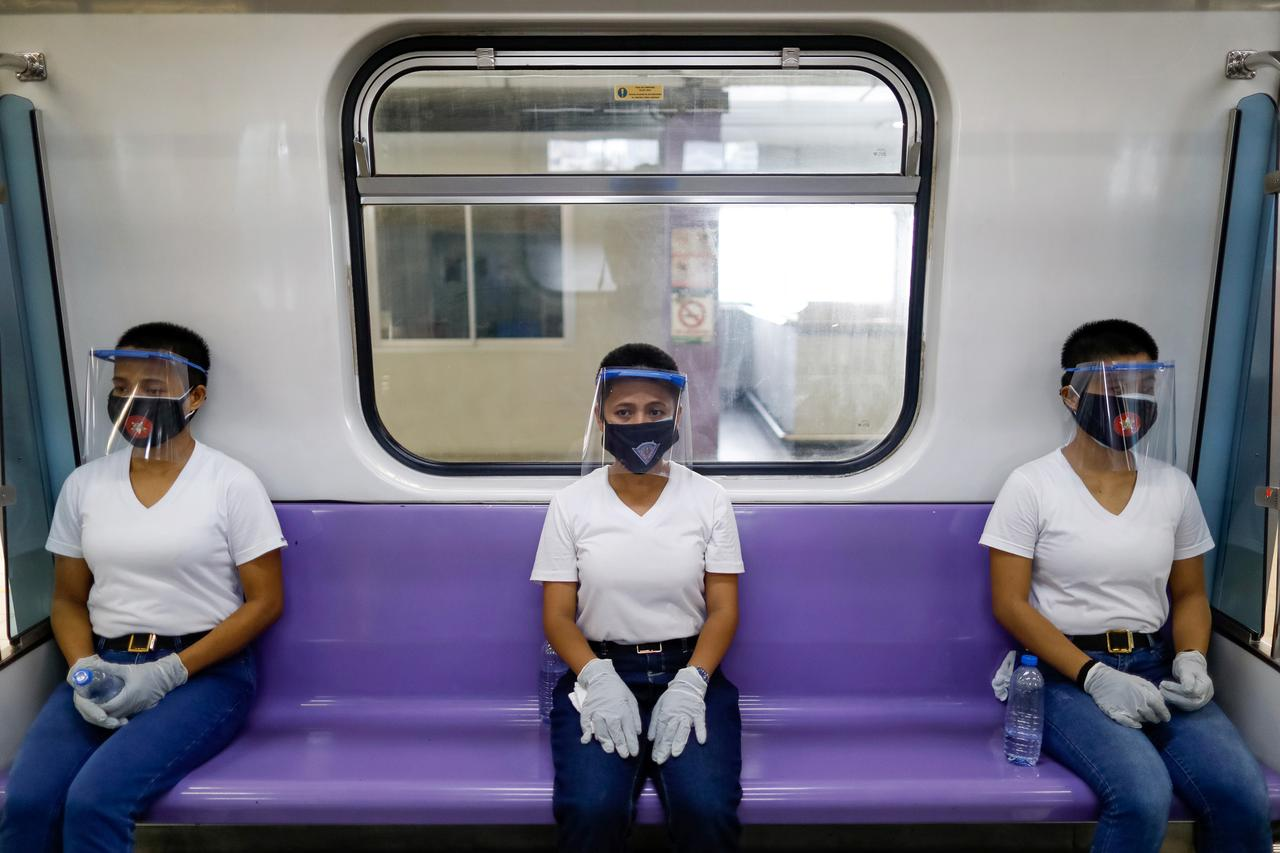Caution: (526, 318, 1265, 853), (17, 321, 740, 847)
